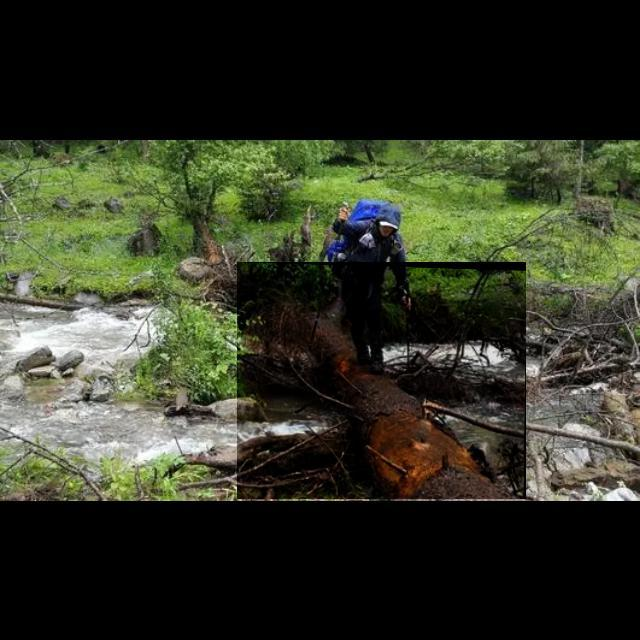fallen_tree: (237, 262, 527, 500)
